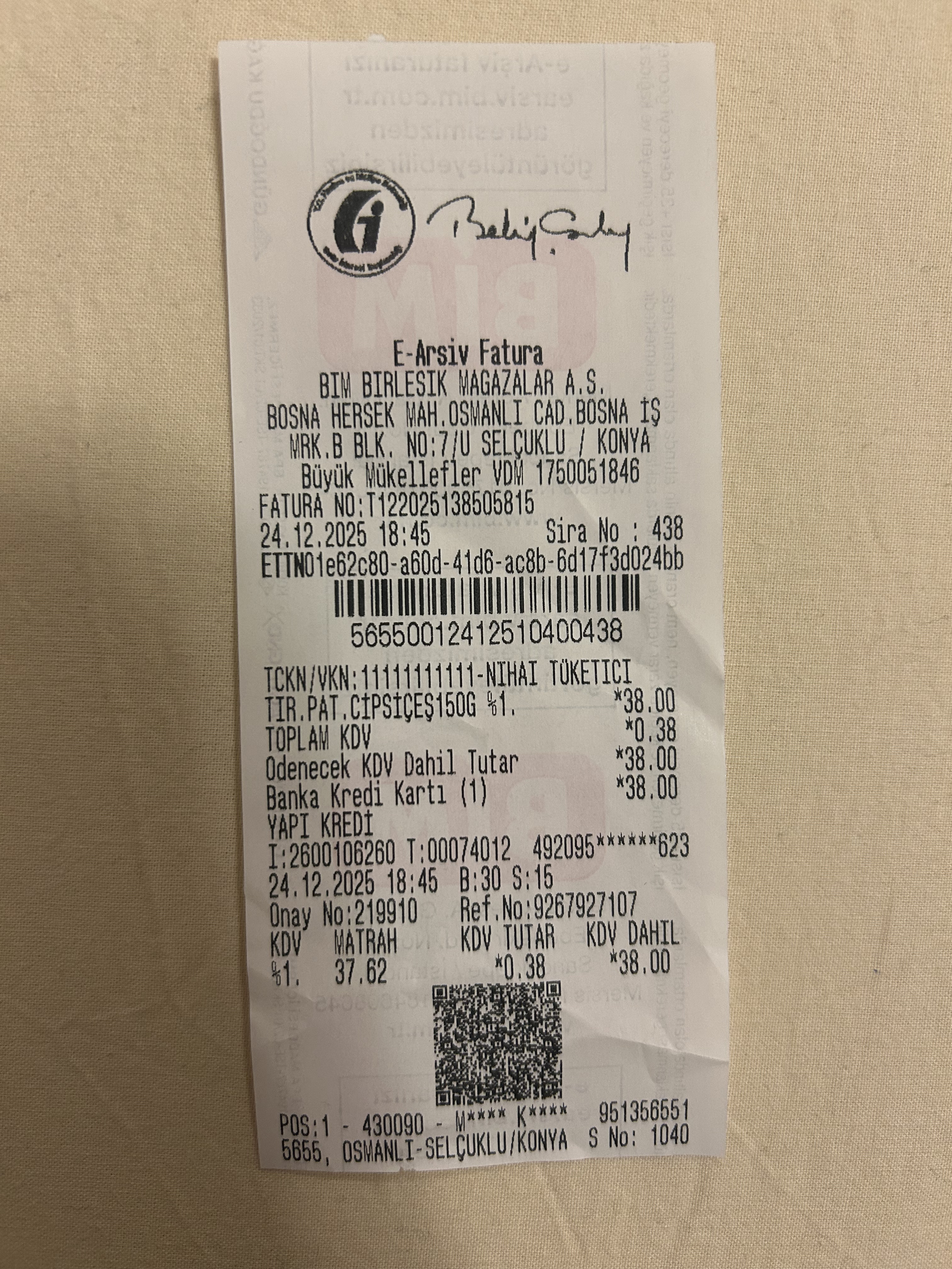date: (255, 517, 372, 553)
price: (622, 741, 688, 772)
workplace: (258, 365, 673, 457)
